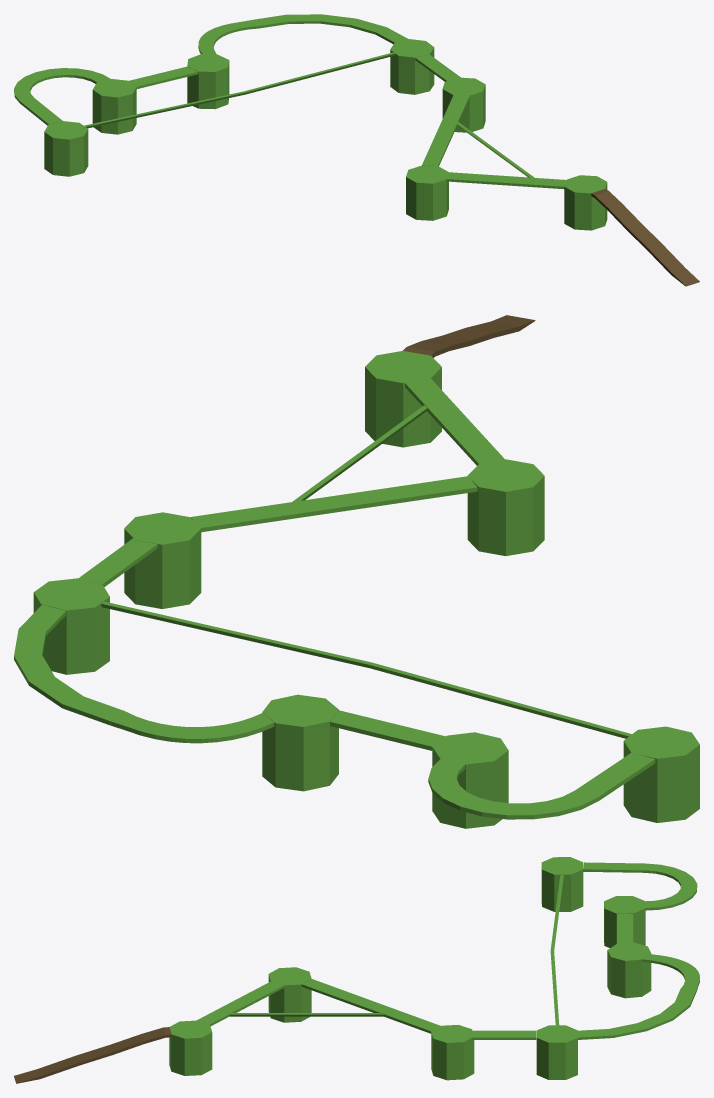
Rendered from Puzzle2.fbx.
3 views of the same model, one above another, from view 1: azimuth 30°, elevation 25°; view 2: azimuth 150°, elevation 25°; view 3: azimuth 270°, elevation 25° (orthographic). The views are drawn at different scales.
Parts seen in each view (by area): view 1: Cylinder.021; view 2: Cylinder.021; view 3: Cylinder.021.
Boxes of the visible parts, box(x1,y1,x2,y2) form: Cylinder.021: box(14, 14, 699, 286); Cylinder.021: box(14, 315, 699, 828); Cylinder.021: box(14, 857, 699, 1083).
Bounding box in the file's own units: 5704 × 586 × 8893.
